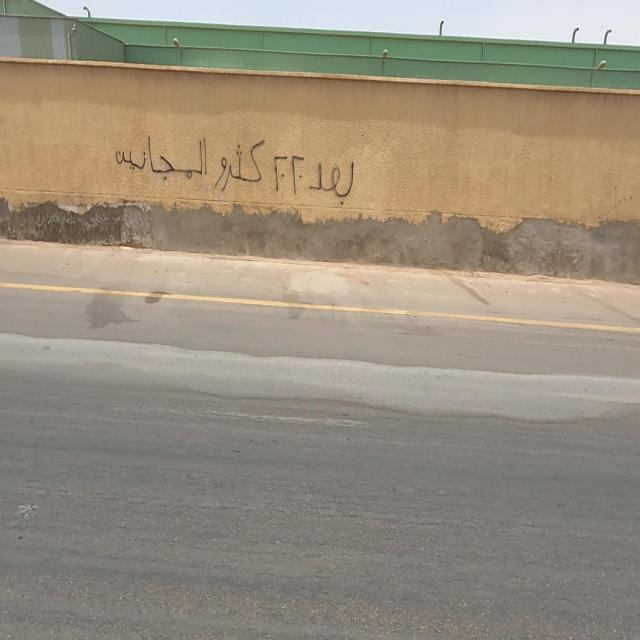debris: (0, 76, 470, 247), (325, 125, 640, 342), (147, 177, 433, 296), (0, 175, 187, 264)
